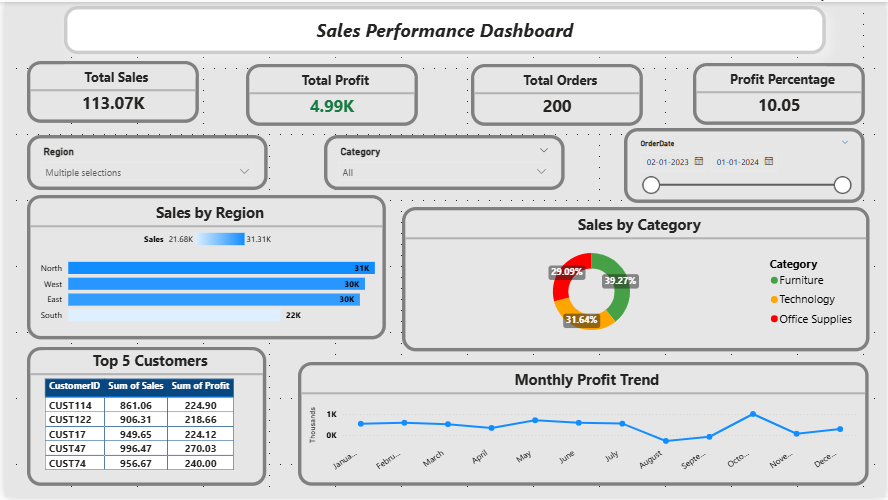

This screenshot's page, from the dashboard's own definition file:
{"tool":"powerbi","page":{"name":"Page 1","canvas":[1280,720],"ordinal":0},"visuals":[{"type":"textbox","box":[86,6,1108,70],"z":0},{"type":"card","title":"Total Sales","fields":{"Values":["Sheet.Total_Sales"]},"box":[32,86,250,90],"z":1000},{"type":"card","title":"Total Profit","fields":{"Values":["Sheet.Total_Profit"]},"box":[350,90.6,250,89.8],"z":2000},{"type":"card","title":"Total Orders","fields":{"Values":["Sheet.Total_Orders"]},"box":[678,90,250,90],"z":3000},{"type":"card","title":"Profit Percentage","fields":{"Values":["Sum(Sheet.Profit_Percentage)"]},"box":[1000,88.3,250,90],"z":4000},{"type":"barChart","title":"Sales by Region","fields":{"Y":["Sum(Sheet.Sales)"],"Category":["Sheet.Region"]},"box":[32,280,522,210],"z":5000},{"type":"donutChart","title":"Sales by Category","fields":{"Y":["Sum(Sheet.Sales)"],"Category":["Sheet.Category"]},"box":[577.1,298.6,680,210],"z":6000},{"type":"tableEx","title":"Top 5 Customers","fields":{"Values":["Sheet.CustomerID","Sum(Sheet.Sales)","Sum(Sheet.Profit)"]},"box":[32,502,348,202],"z":7000},{"type":"lineChart","title":"Monthly Profit Trend","fields":{"Y":["Sum(Sheet.Profit)"],"Category":["Sheet.OrderDate.Variation.Date Hierarchy.Month"]},"box":[426,524,830,180],"z":8000},{"type":"slicer","fields":{"Values":["Sheet.Region"]},"box":[32,194,350,80],"z":9000},{"type":"slicer","fields":{"Values":["Sheet.Category"]},"box":[464,194,350,80],"z":10000},{"type":"slicer","fields":{"Values":["Sheet.OrderDate"]},"box":[900,182.9,350,108.6],"z":11000}]}

Visuals, with their boxes in screenshot pixels (x1, y1, x2, y2), scaled from the page's 1280x720 canvas onto the 888x500 screenshot:
textbox: pyautogui.locateOnScreen(60, 4, 828, 53)
"Total Sales" card: pyautogui.locateOnScreen(22, 60, 196, 122)
"Total Profit" card: pyautogui.locateOnScreen(243, 63, 416, 125)
"Total Orders" card: pyautogui.locateOnScreen(470, 62, 644, 125)
"Profit Percentage" card: pyautogui.locateOnScreen(694, 61, 867, 124)
"Sales by Region" barChart: pyautogui.locateOnScreen(22, 194, 384, 340)
"Sales by Category" donutChart: pyautogui.locateOnScreen(400, 207, 872, 353)
"Top 5 Customers" tableEx: pyautogui.locateOnScreen(22, 349, 264, 489)
"Monthly Profit Trend" lineChart: pyautogui.locateOnScreen(296, 364, 871, 489)
slicer - Sheet.Region: pyautogui.locateOnScreen(22, 135, 265, 190)
slicer - Sheet.Category: pyautogui.locateOnScreen(322, 135, 565, 190)
slicer - Sheet.OrderDate: pyautogui.locateOnScreen(624, 127, 867, 202)
